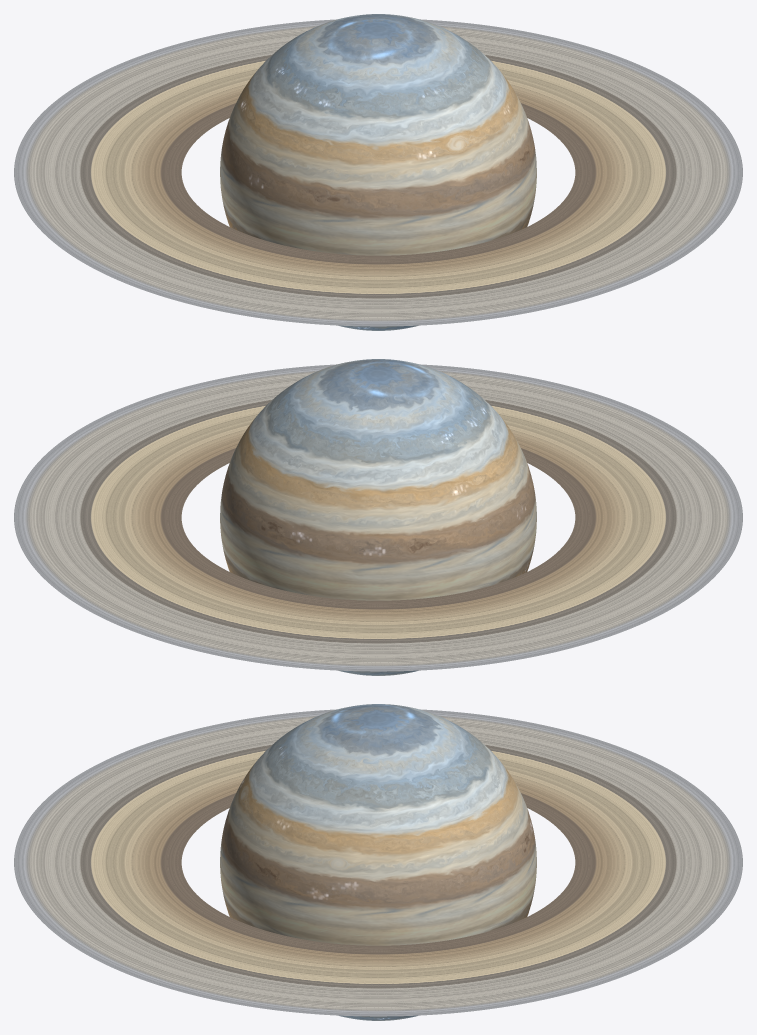
The model's file is gas_giant.fbx.
3 renders of one model, top to bottom at view 1: azimuth 30°, elevation 25°; view 2: azimuth 150°, elevation 25°; view 3: azimuth 270°, elevation 25°, orthographic.
Visible parts, largest first — view 1: gg_rings, gg_planet; view 2: gg_rings, gg_planet; view 3: gg_rings, gg_planet.
Boxes of the visible parts, x1,y1,x2,y2 form: gg_rings: (14, 19, 742, 326); gg_planet: (220, 14, 536, 330); gg_rings: (14, 364, 742, 671); gg_planet: (220, 359, 536, 675); gg_rings: (14, 709, 742, 1016); gg_planet: (220, 704, 536, 1020).
Size of the model in its own units: 4.6 by 2 by 4.6.
2 materials, 2 textured.
